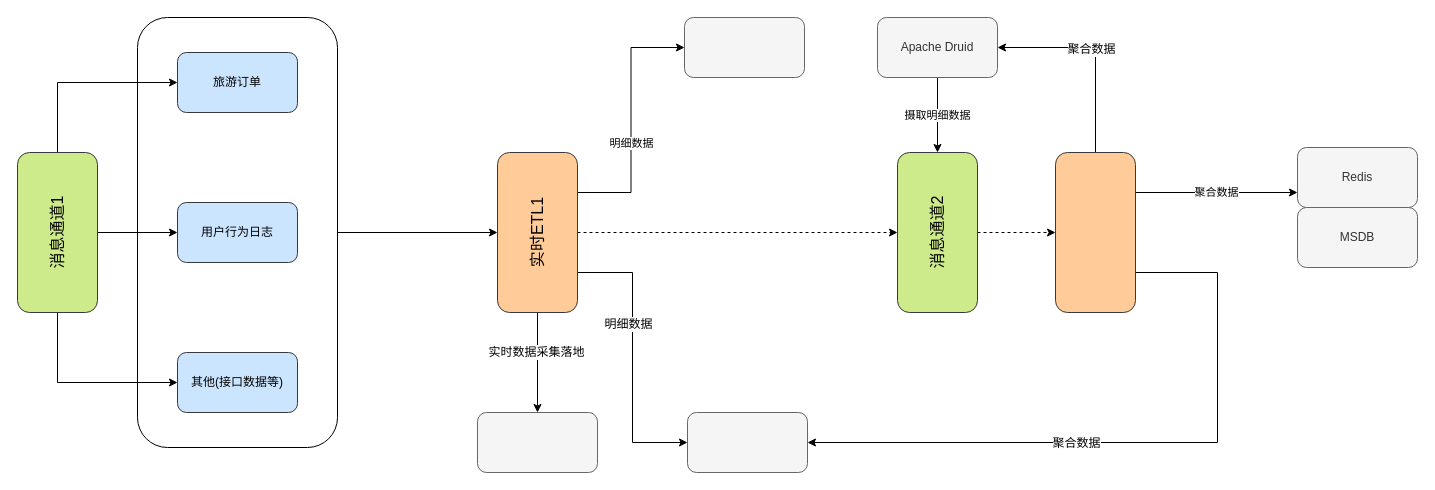
The diagram is 1435 pixels wide and 490 high, and some of its shapes have lost their labels. Here are the shapes that lost their labels. From the top down, the centre of each, then its label:
At pixel 744 47: "ClickHouse".
At pixel 1095 232: "实时ETL2".
At pixel 537 442: "HDFS".
At pixel 747 442: "Elasticsearch".
